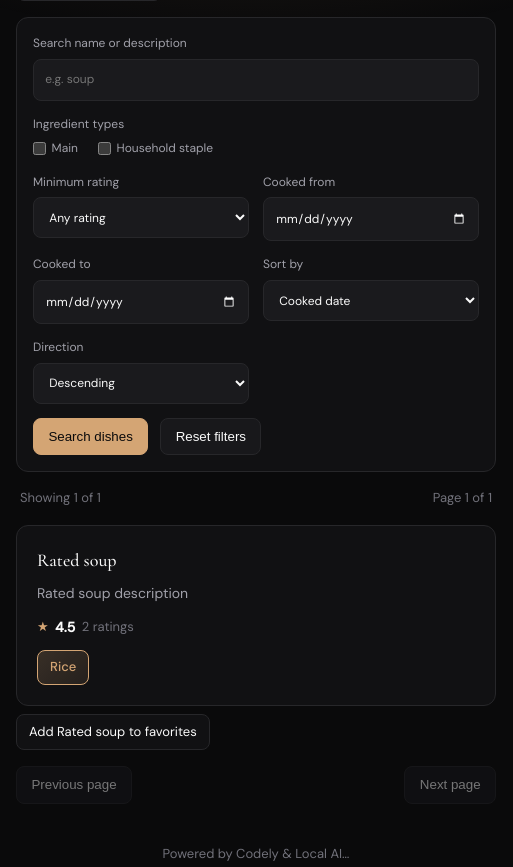
Test case: Home cooked-dish search should › show an actionable error when favorites cannot be updated
This screenshot has width=513, height=867.
(page scrolled)
Expected: the heading "Rated soup" is shown, [37, 549, 116, 571]
Click the button "Add Rated soup to favorites": (113, 732) [16, 714, 210, 750]
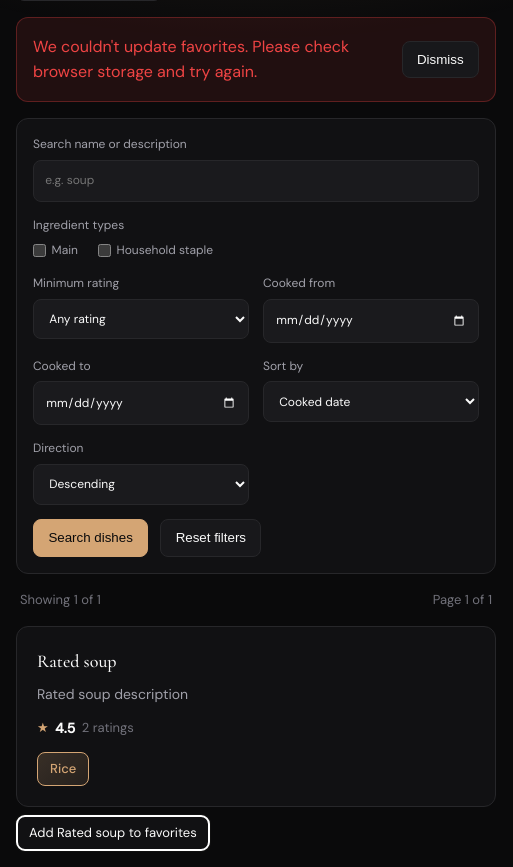
Now the message shows "We couldn't update favorites. Please check browser storage and try again.", box [33, 36, 349, 82]
